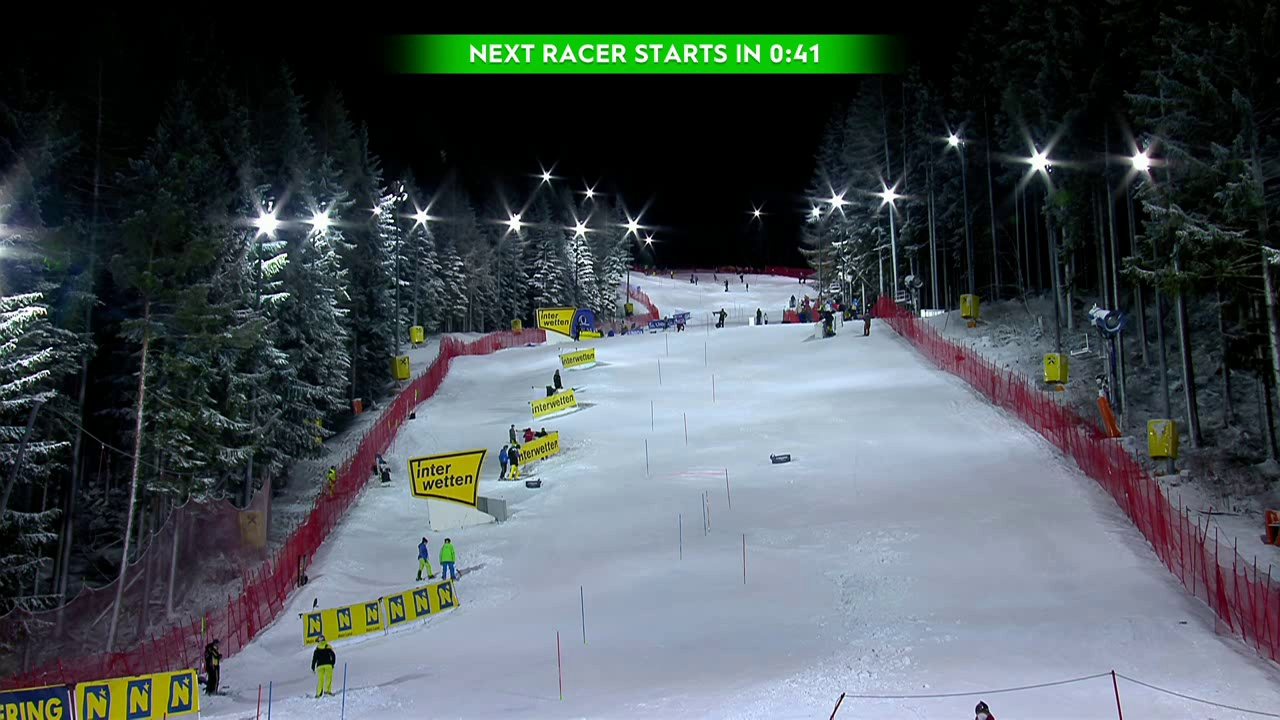interwetten: (404, 454, 491, 503)
raiffeisen: (509, 433, 562, 471), (527, 391, 580, 422)
